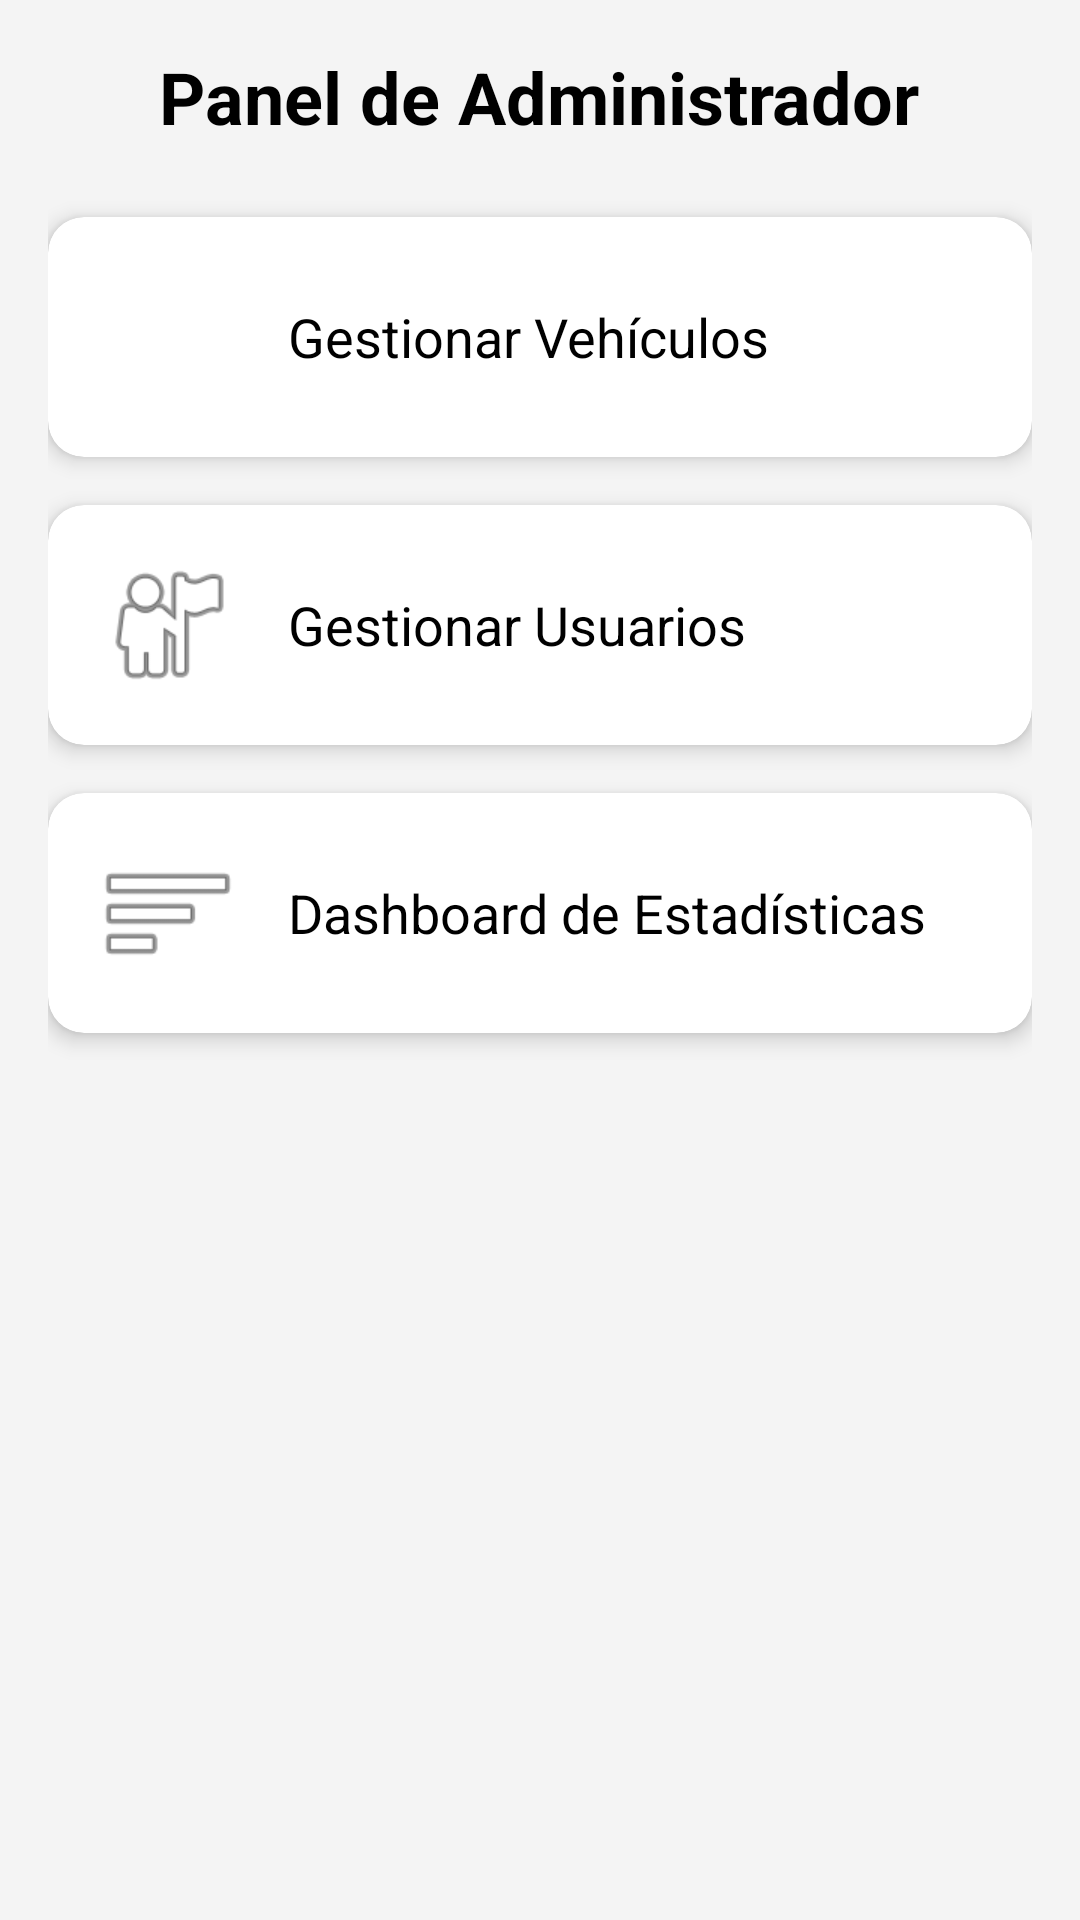

Icons on this 1080px×1920px Android screen, each with its box as box(x1, y1, x2, y2):
myplaces: box(115, 571, 224, 679)
sort by size: box(106, 873, 230, 954)
